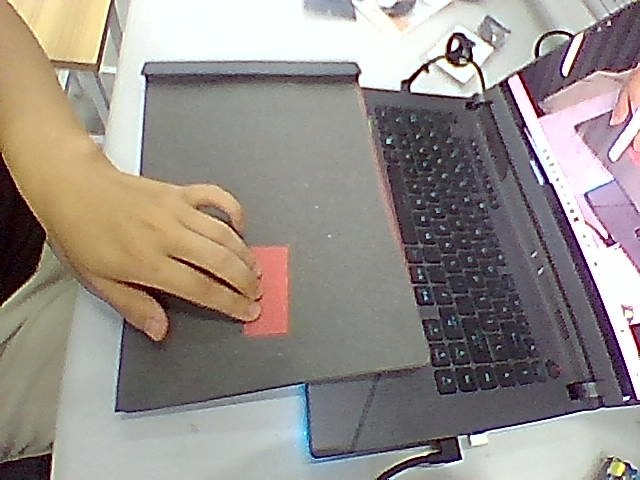card: (243, 246, 289, 335)
